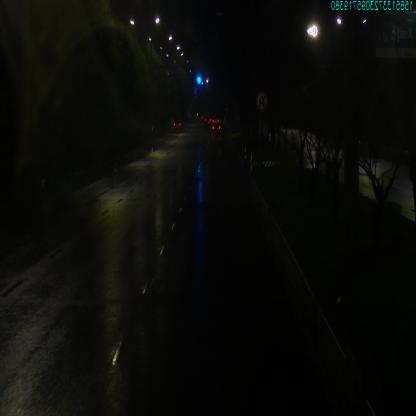traffic-light: (196, 70, 204, 88)
